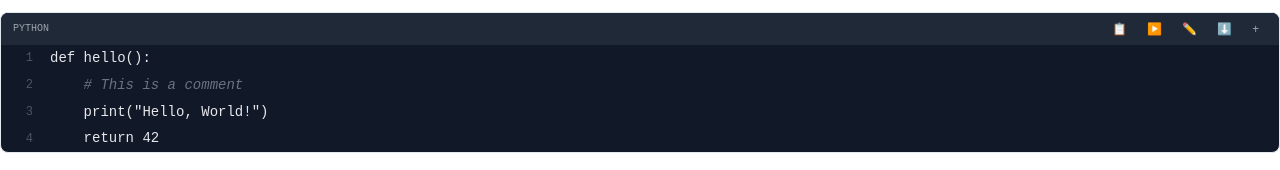
Test: CodeBlock › expand/collapse toggle
Click the button titled "Expand": [1256, 29] box [1244, 19, 1267, 39]
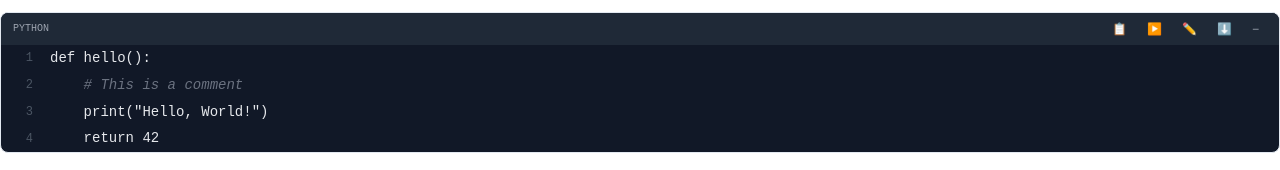
Expected: the button titled "Collapse" is shown, [1244, 19, 1267, 39]
